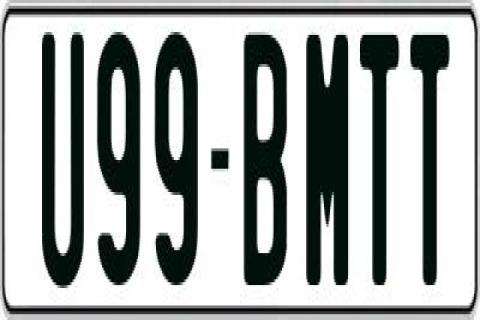0: (153, 23, 203, 276), (94, 27, 140, 286)
B: (244, 35, 290, 297)
M: (306, 32, 356, 300)
T: (410, 35, 452, 303), (360, 35, 400, 297)
U: (40, 32, 88, 288)
